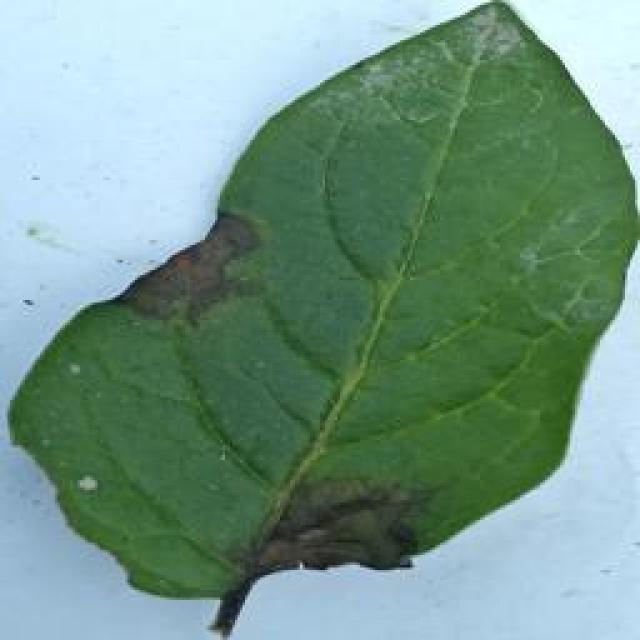Potato_Late_Blight: (11, 6, 624, 630)
